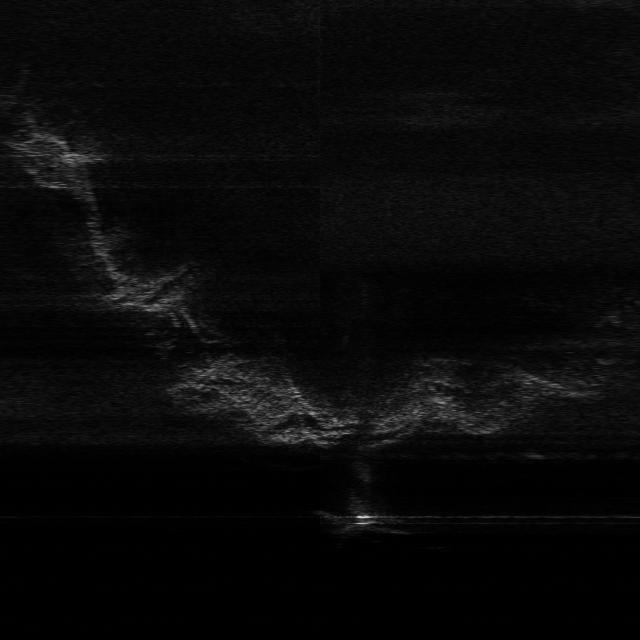plane: (312, 507, 413, 536)
